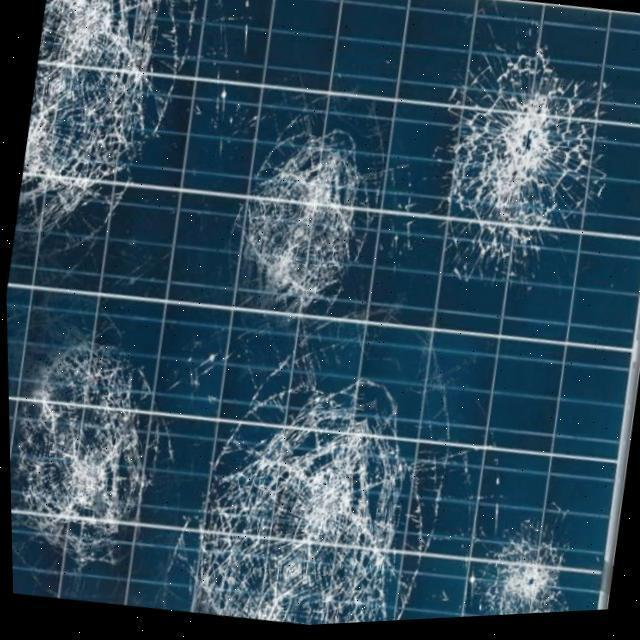Anomaly Solar Panel: (5, 0, 640, 628)
Structural Damage: (156, 340, 462, 628), (422, 5, 640, 306), (10, 0, 209, 277), (7, 321, 177, 588), (209, 108, 413, 328), (464, 524, 592, 622)
